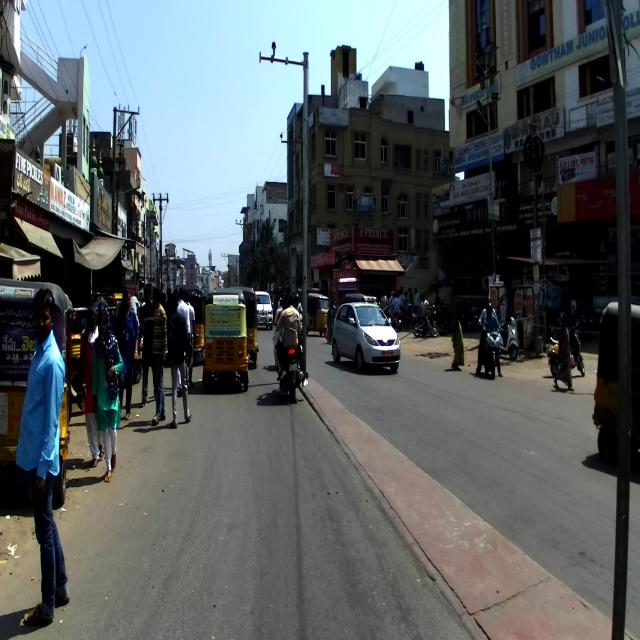high: (21, 280, 69, 624), (96, 309, 129, 483), (166, 289, 191, 420), (150, 288, 168, 419), (178, 278, 194, 362), (451, 286, 464, 369), (326, 302, 334, 342)
